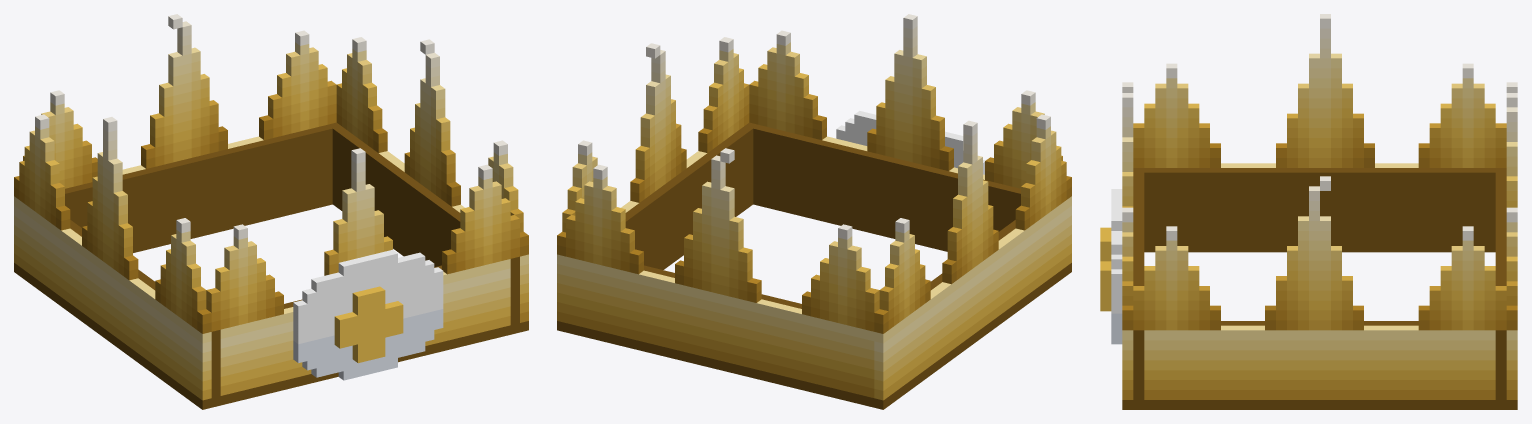
The model's file is plus_crown_hat.glb.
The picture shows the model from 3 angles, left to right: view 1: azimuth 30°, elevation 25°; view 2: azimuth 150°, elevation 25°; view 3: azimuth 270°, elevation 25°; orthographic projection. The views are drawn at different scales.
Parts seen in each view (by area): view 1: Cloudy+ Crown; view 2: Cloudy+ Crown; view 3: Cloudy+ Crown.
Part boxes in pixels (bbox=[...]): Cloudy+ Crown: bbox=[14, 14, 528, 409]; Cloudy+ Crown: bbox=[557, 14, 1071, 409]; Cloudy+ Crown: bbox=[1100, 14, 1517, 409].
Bounding box in the file's own units: 0.5625 × 0.3594 × 0.5938.
Materials: 1 (1 with a texture image).
